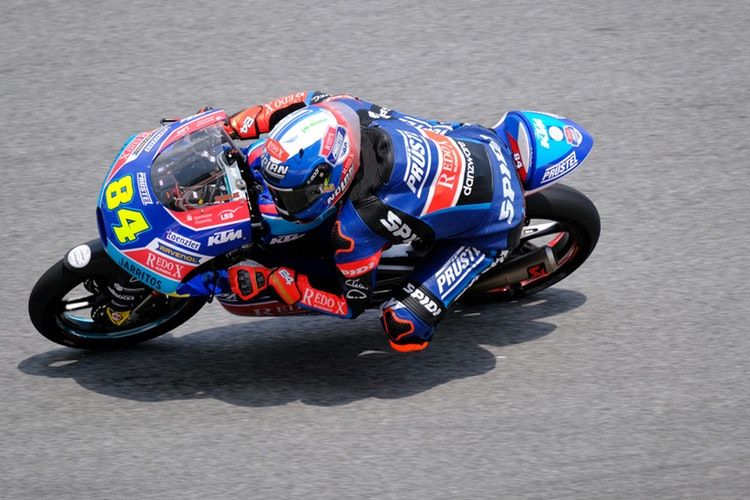helmet: (251, 107, 355, 209)
